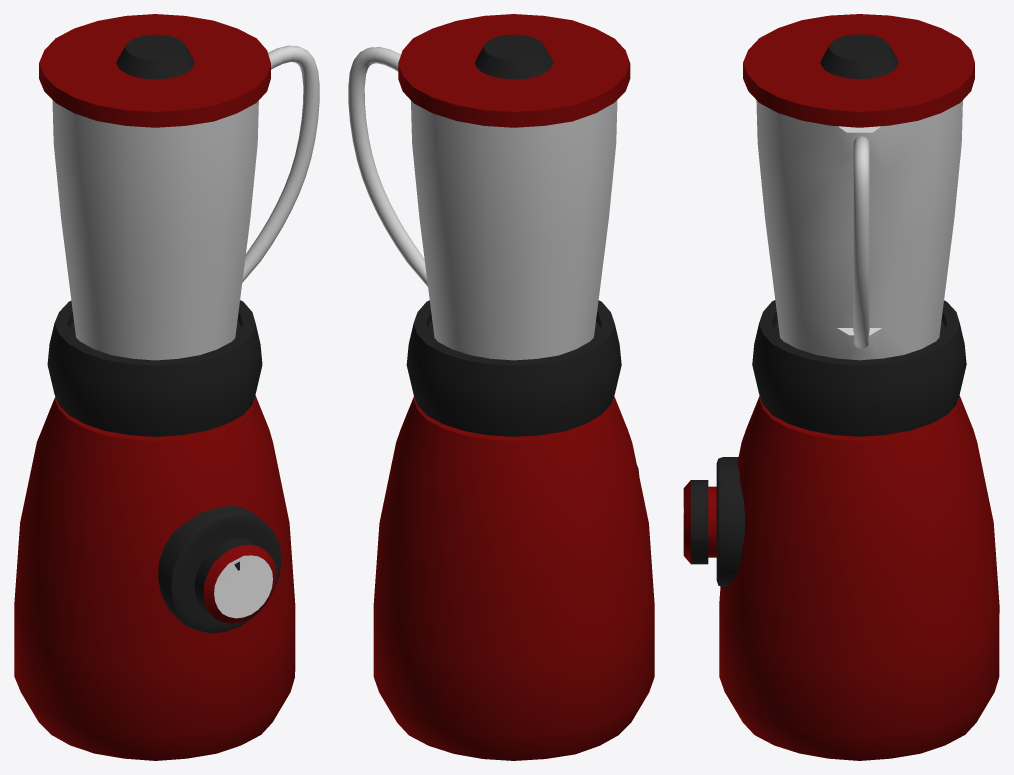
The model's file is Batidora.fbx.
3 renders of one model, left to right at view 1: azimuth 30°, elevation 25°; view 2: azimuth 150°, elevation 25°; view 3: azimuth 270°, elevation 25°, orthographic.
Visible parts, largest first — view 1: Batidora; view 2: Batidora; view 3: Batidora.
Boxes of the visible parts, bbox=[...] form: Batidora: bbox=[14, 14, 319, 760]; Batidora: bbox=[348, 14, 654, 760]; Batidora: bbox=[683, 14, 999, 760].
Bounding box in the file's own units: 0.5631 × 1.25 × 0.5411.
